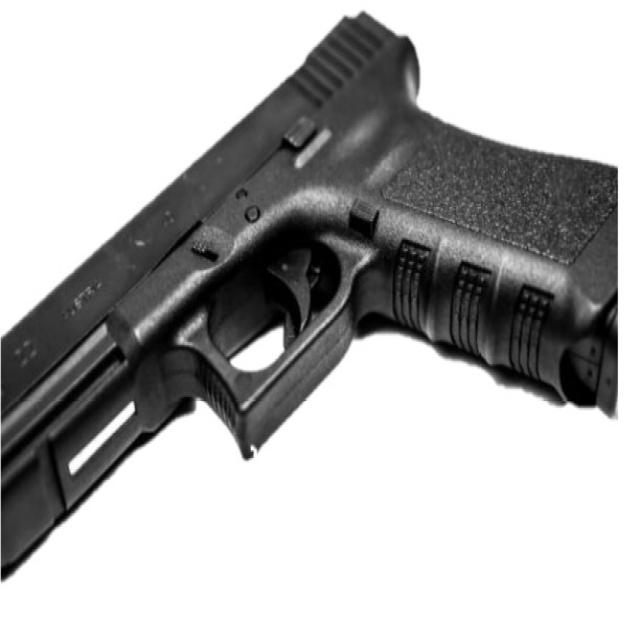pistol: (1, 11, 620, 594)
